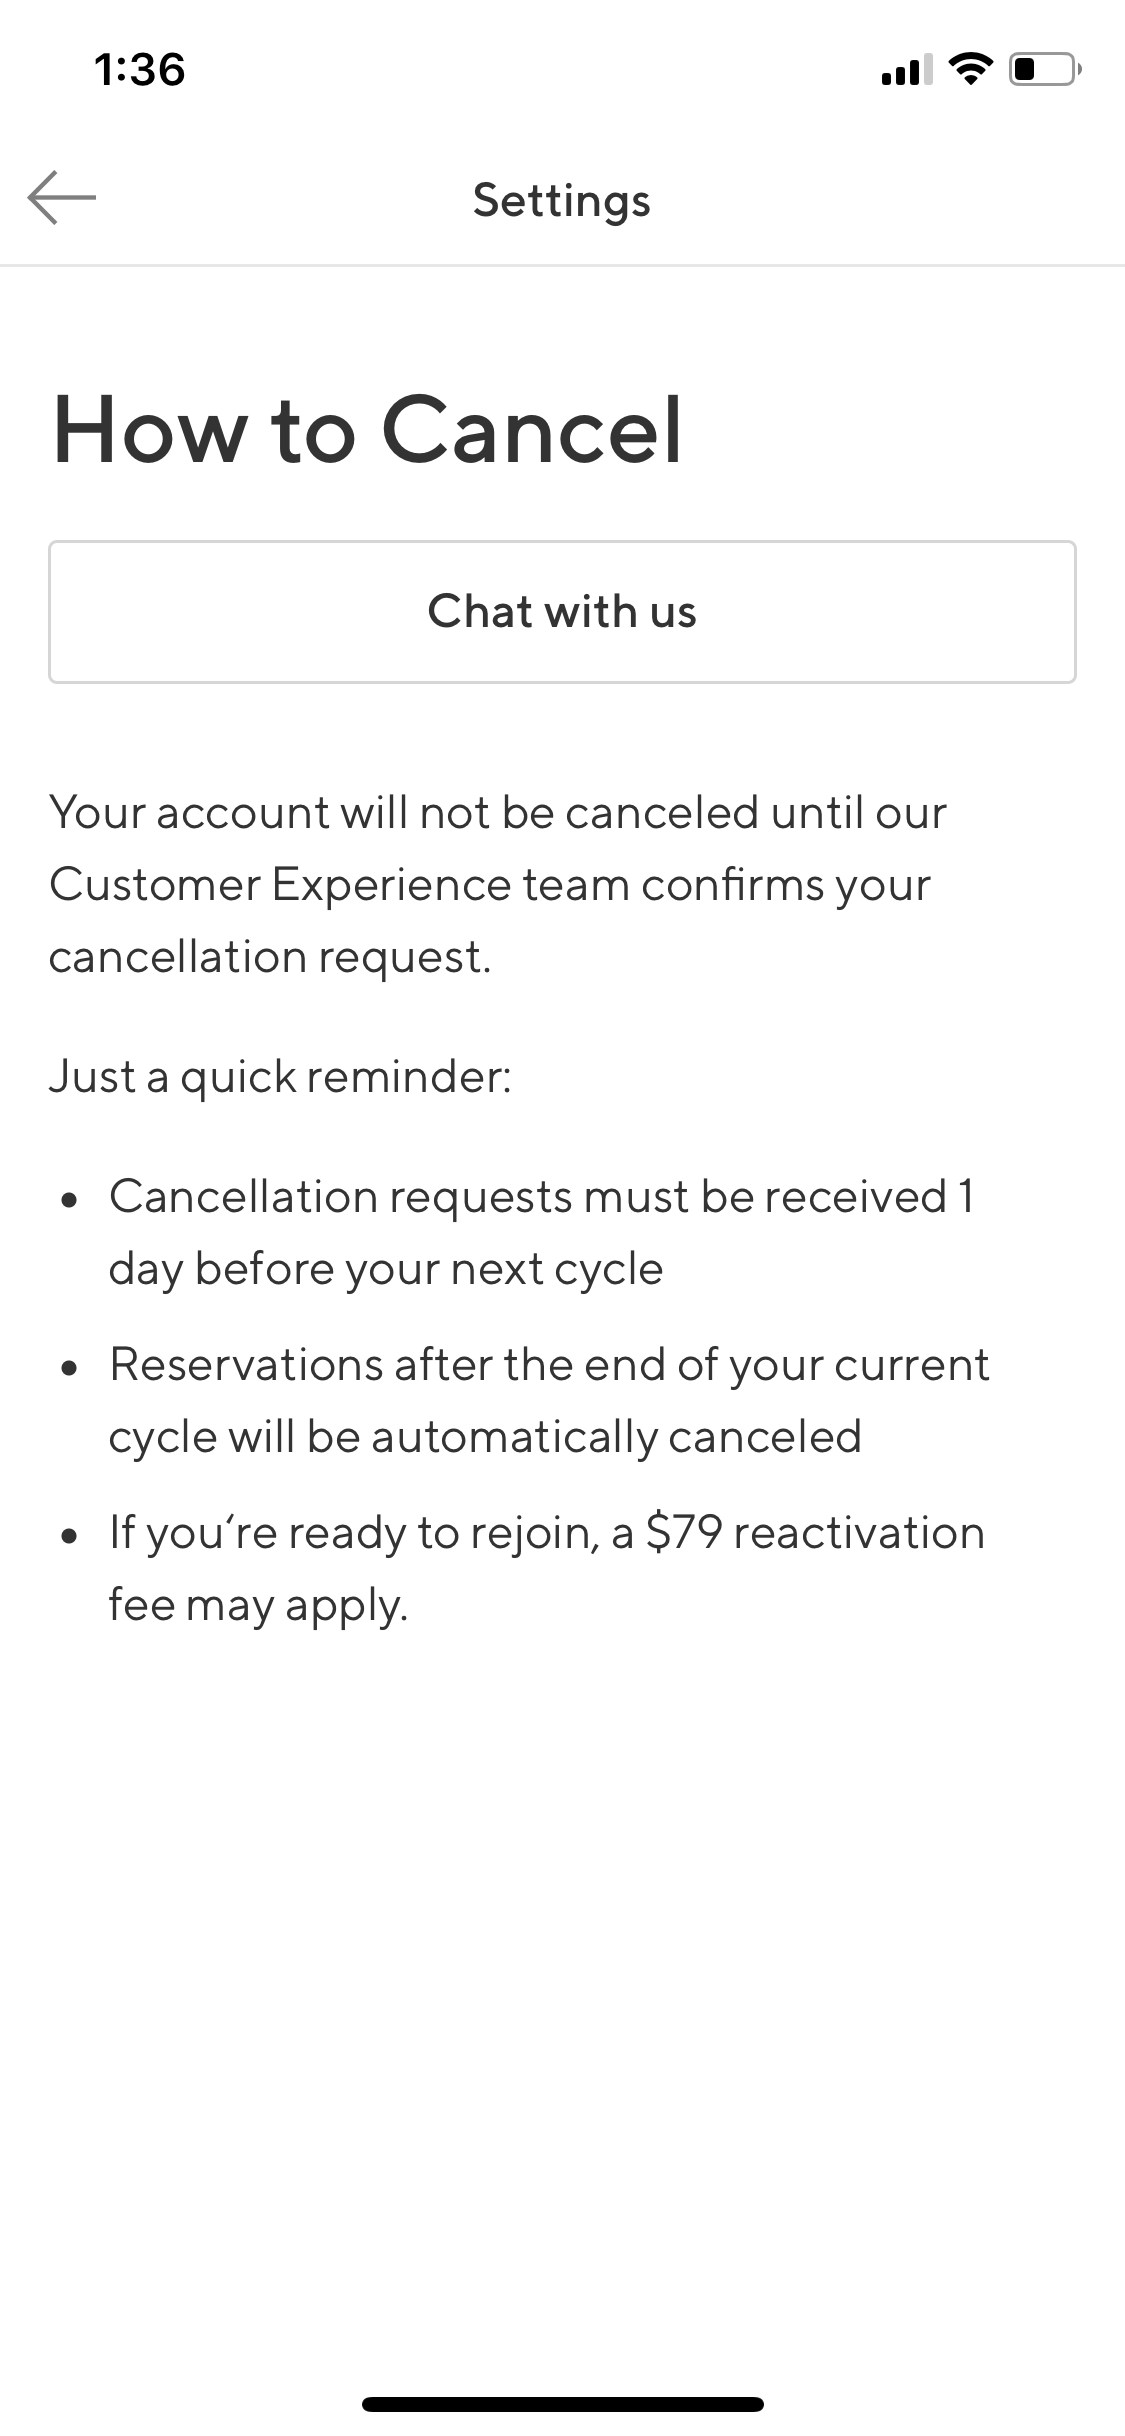Buttons: (22, 525, 1089, 701), (2, 144, 124, 252)
